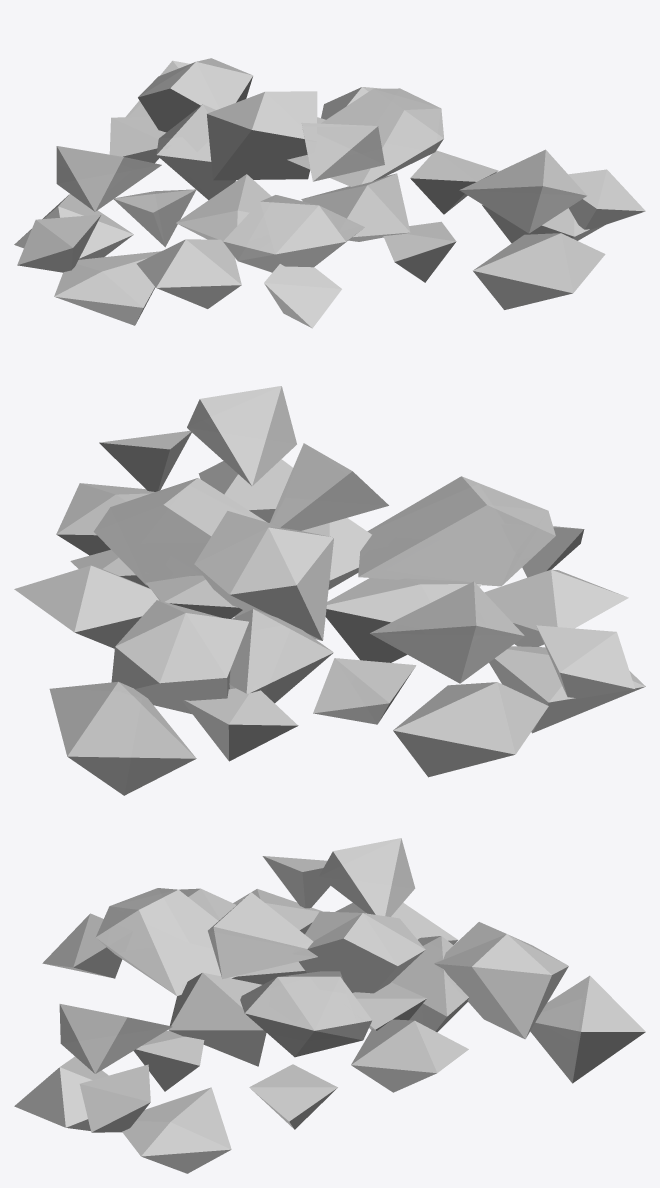
Rendered from ancient_SM_Env_Garden_Plants_03.gltf.
3 views of the same model, one above another, from view 1: azimuth 30°, elevation 25°; view 2: azimuth 150°, elevation 25°; view 3: azimuth 270°, elevation 25° (orthographic). The views are drawn at different scales.
Visible parts, largest first — view 1: SM_Env_Garden_Plants_03; view 2: SM_Env_Garden_Plants_03; view 3: SM_Env_Garden_Plants_03.
Part boxes in pixels (bbox=[...]): SM_Env_Garden_Plants_03: bbox=[14, 58, 645, 328]; SM_Env_Garden_Plants_03: bbox=[14, 386, 645, 795]; SM_Env_Garden_Plants_03: bbox=[14, 838, 645, 1173].
Size of the model in its own units: 1.93 by 0.702 by 1.87.
1 material, 1 textured.
